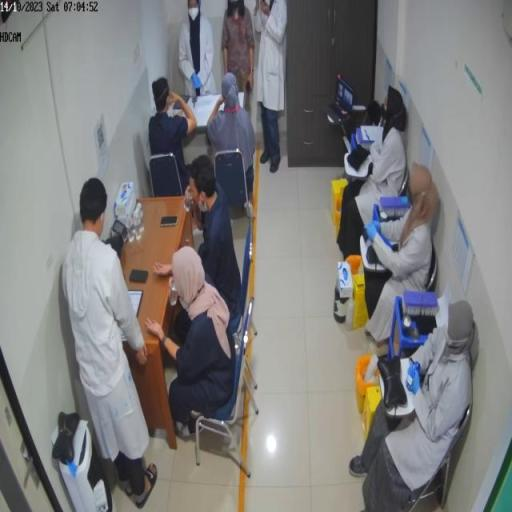person: (64, 178, 163, 505), (352, 300, 476, 505), (147, 243, 236, 441), (362, 164, 439, 359), (338, 86, 409, 261), (189, 156, 244, 331), (207, 73, 257, 215), (150, 77, 199, 195), (256, 2, 289, 174), (222, 1, 255, 118), (179, 1, 216, 98)
